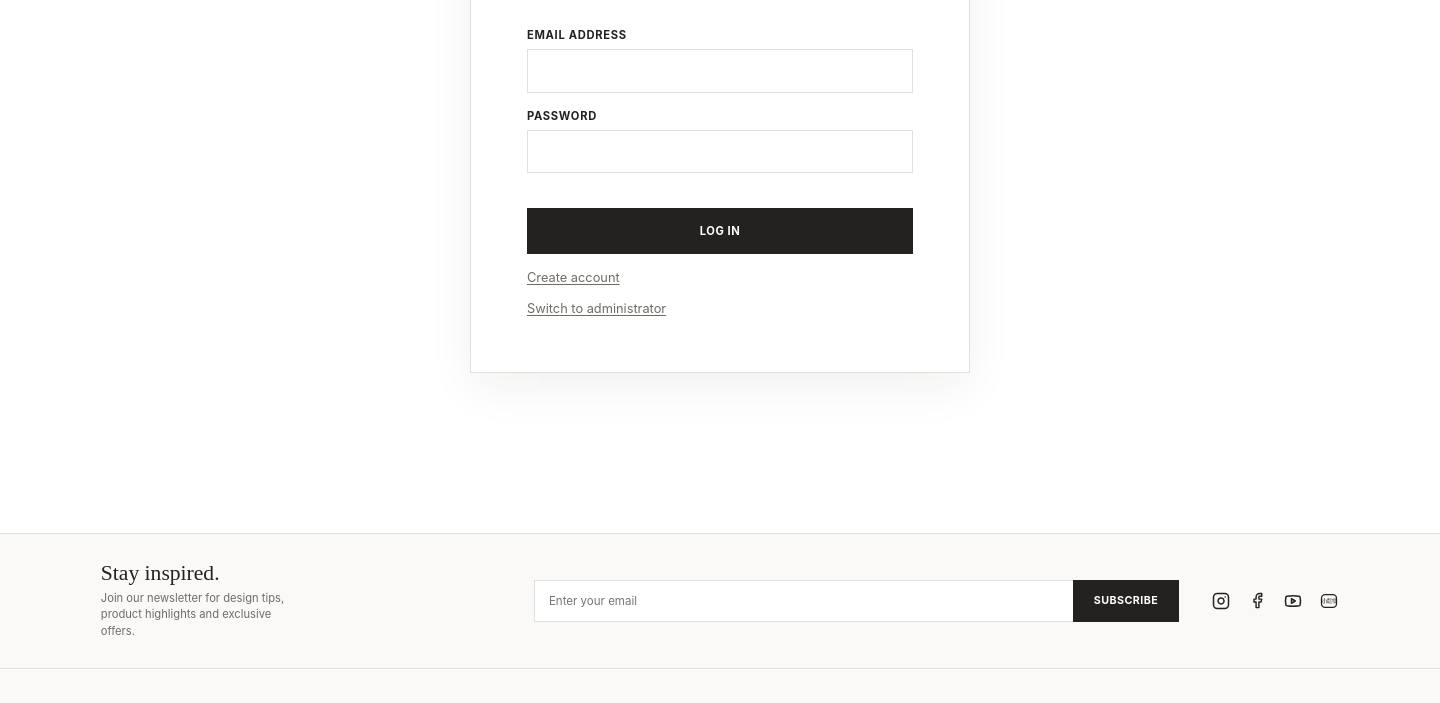
it: switches the public account form to administrator sign in without offering registration
(page scrolled)
Click the button "Switch to administrator" at (597, 309), box [527,301,666,316]
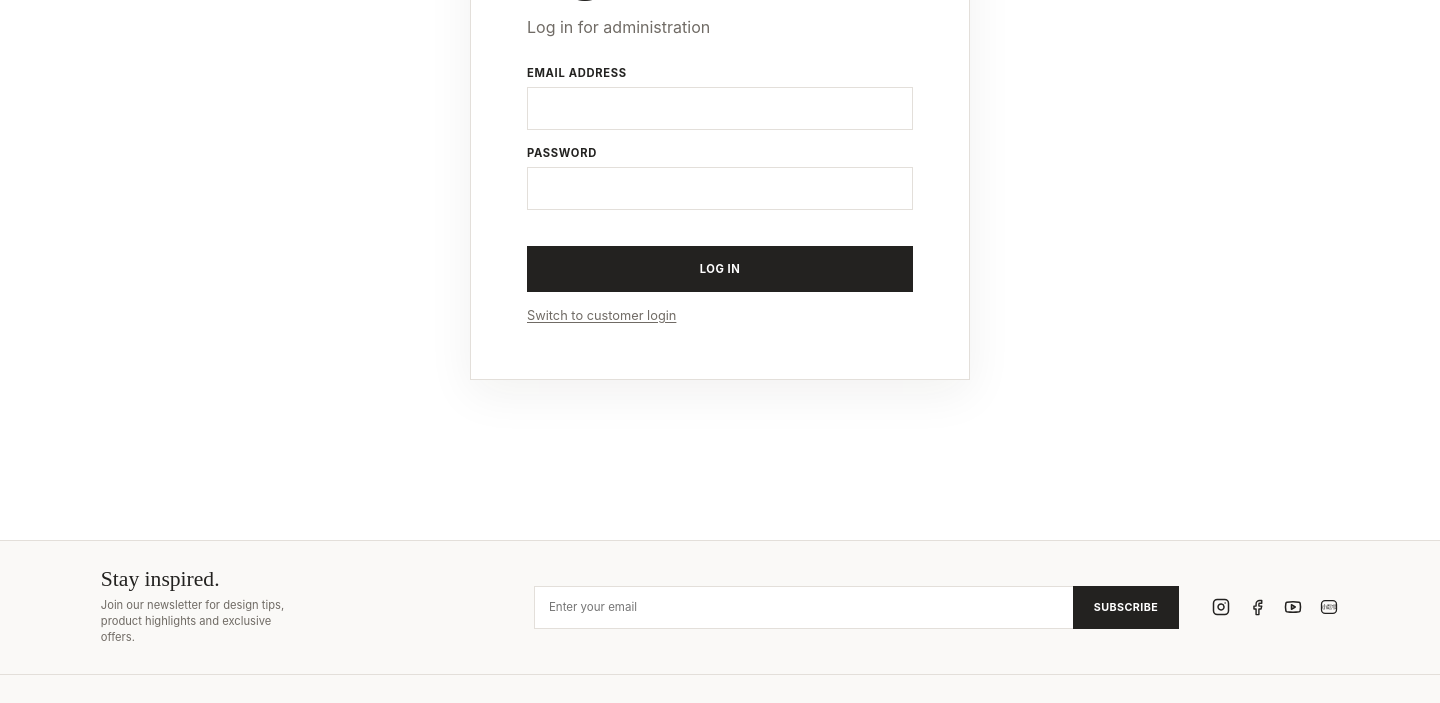
Expected: the text "Log in for administration" is shown, [527,17,710,37]
Expected: the button "Create account" is gone
Expected: the button "Switch to customer login" is shown, [527,308,676,323]
